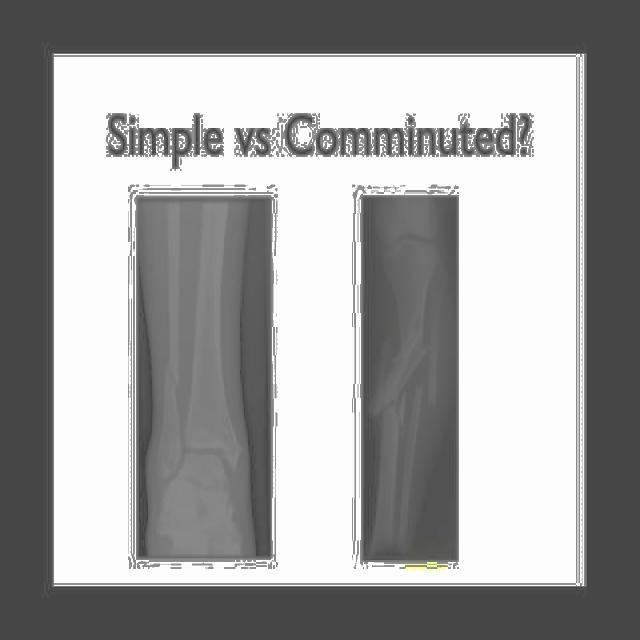Comminuted Fracture: (368, 331, 447, 436)
